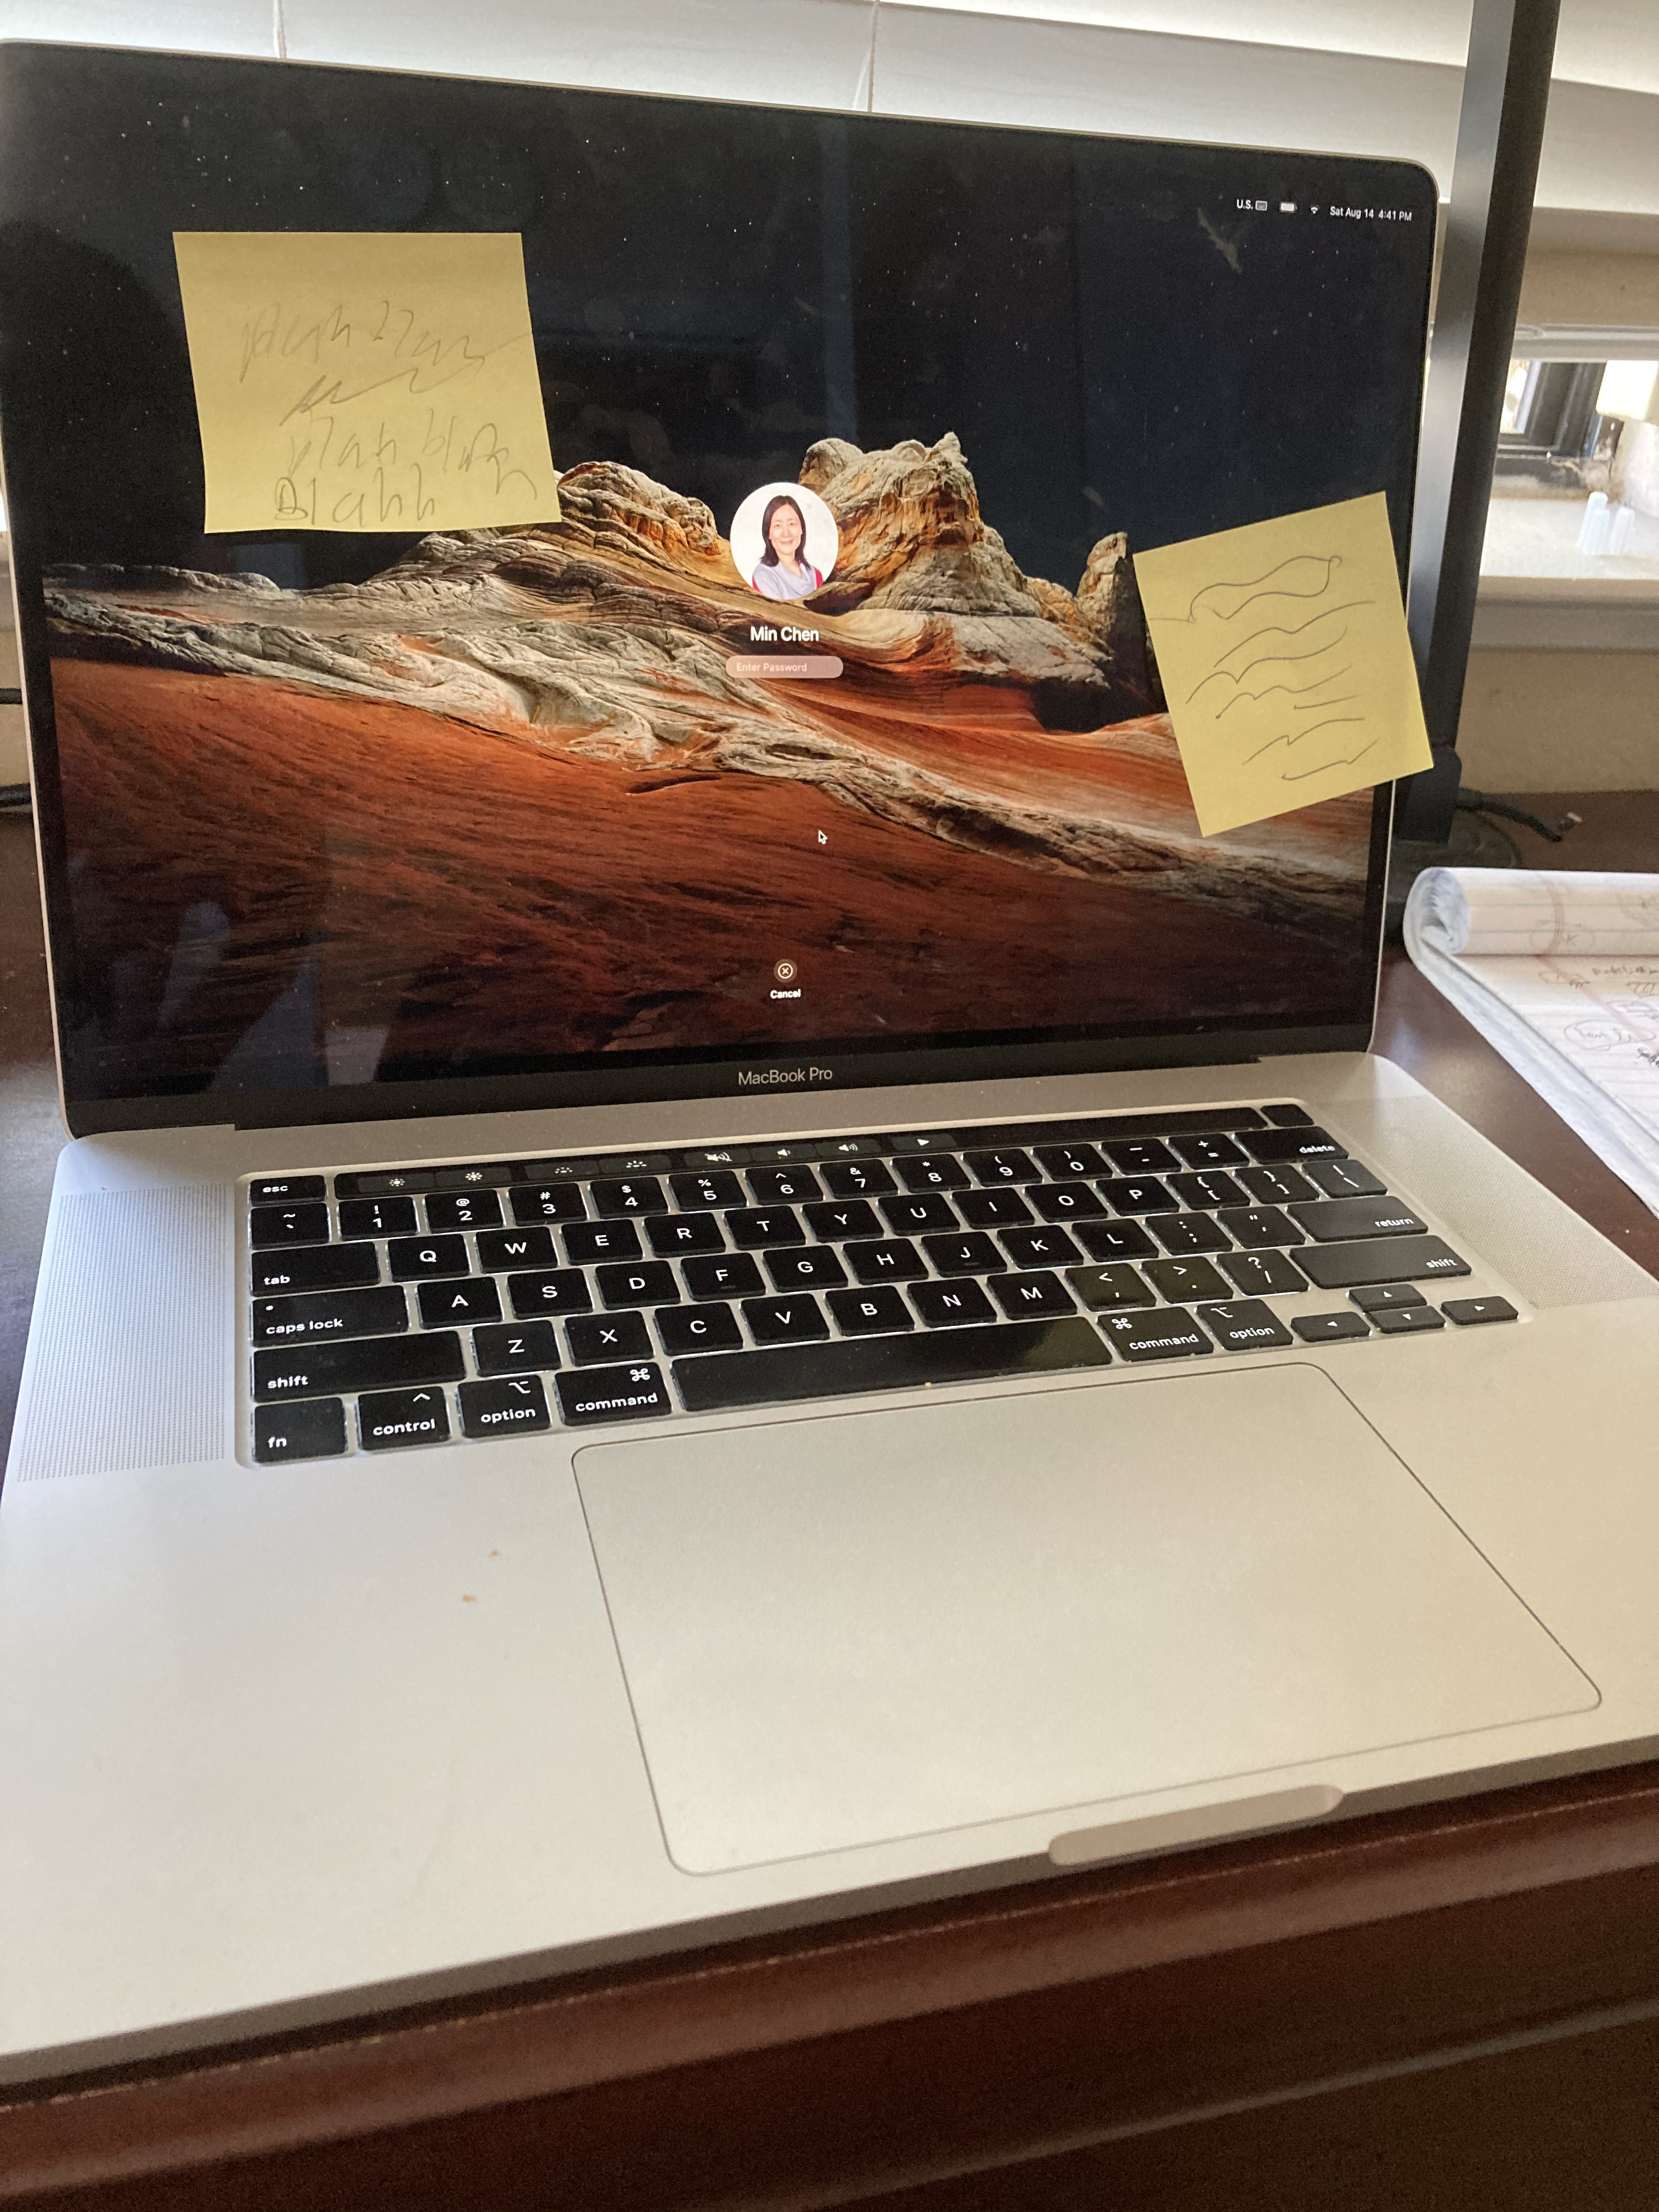Note: (181, 226, 565, 547), (1141, 481, 1446, 841)
